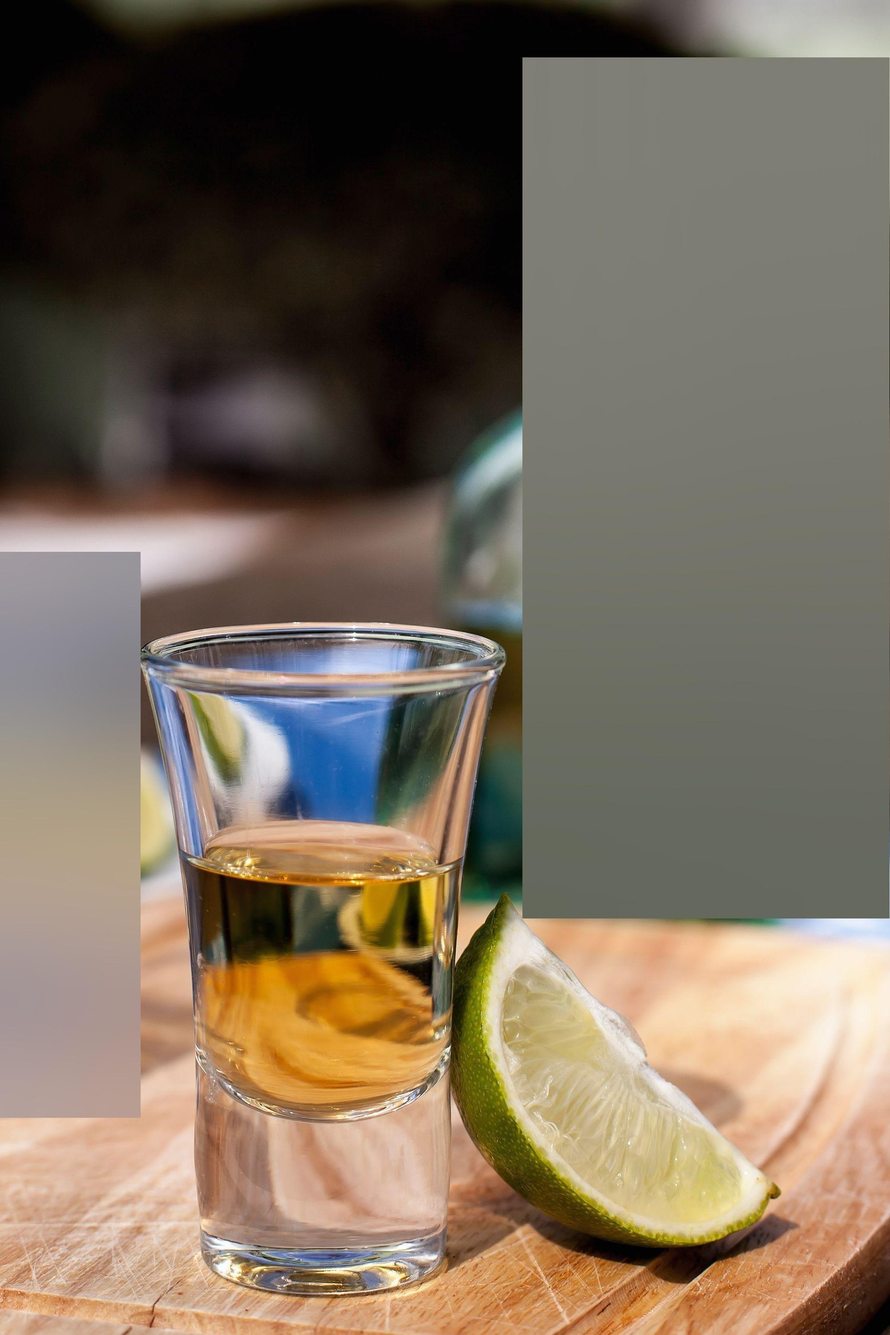glass-normal: (140, 615, 505, 1297)
